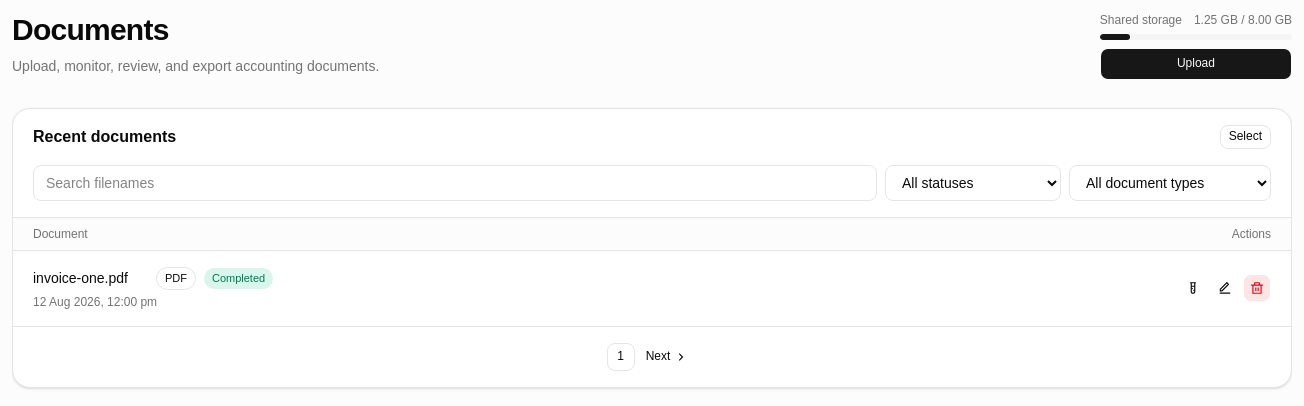
Test: DashboardPage › shows recent documents and follows opaque pagination
This screenshot has width=1304, height=406.
Expected: the text "invoice-one.pdf" is shown, [33, 268, 128, 288]
Expected: the button with aria-label "open invoice-one.pdf" is enabled, [33, 268, 148, 288]
Click the button with aria-label "Go to next page". click: click(667, 356)
box: [646, 349, 688, 364]
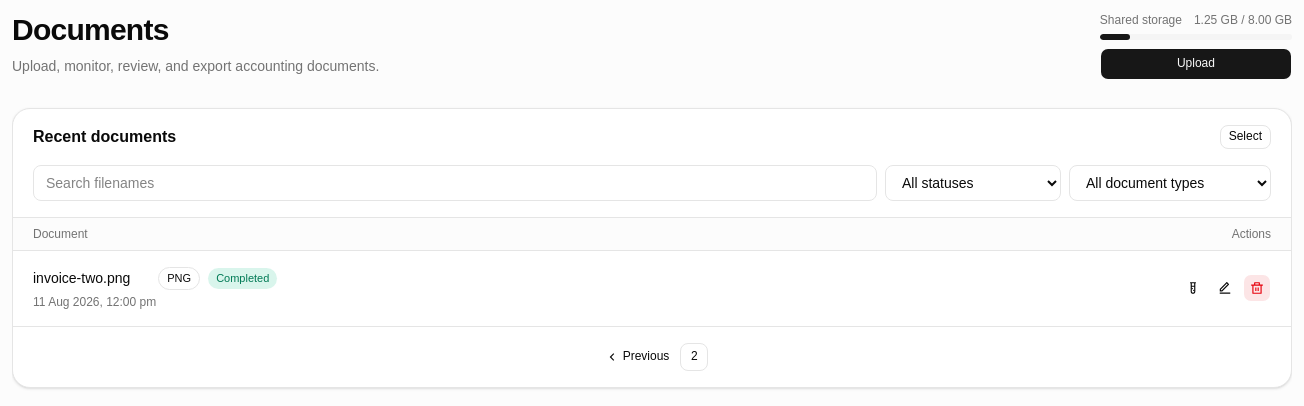
Result: the text "invoice-two.png" is shown at [33, 268, 130, 288]
Result: the button "invoice-one.pdf" is gone
Click the button with aria-label "Go to previous page". click: click(637, 356)
box: [605, 349, 669, 364]
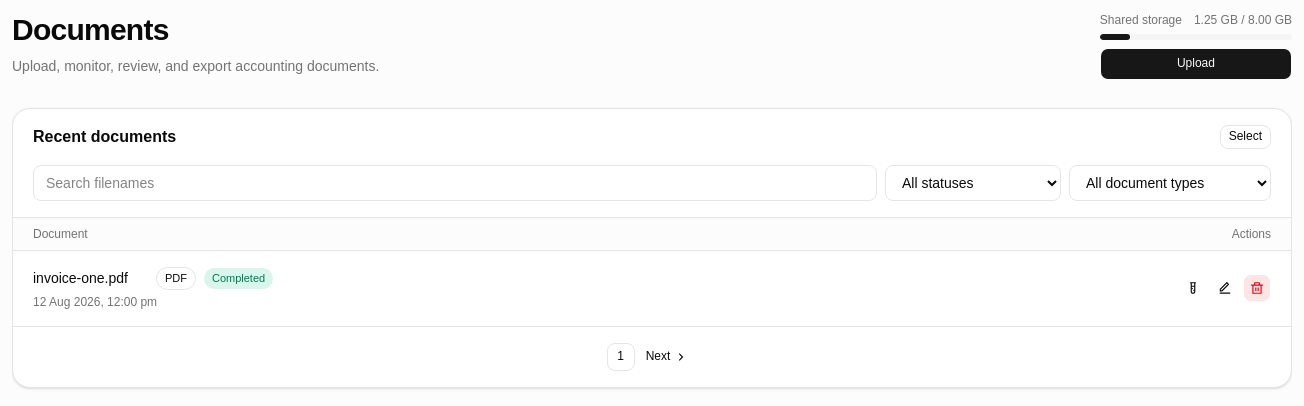
Result: the text "invoice-one.pdf" is shown at [33, 268, 128, 288]
Result: the button "invoice-two.png" is gone
